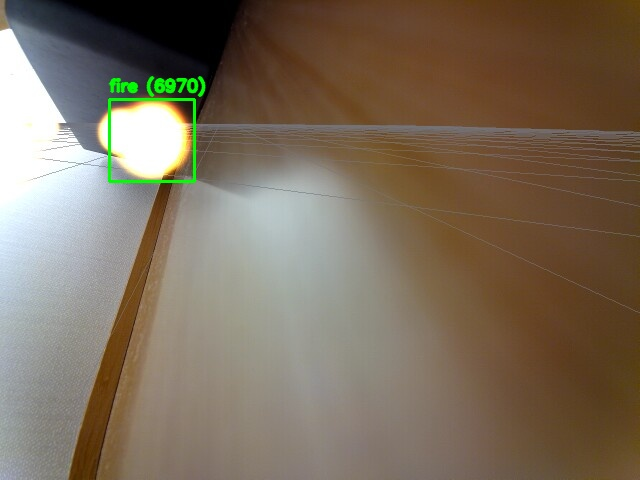fire: (109, 99, 194, 181)
